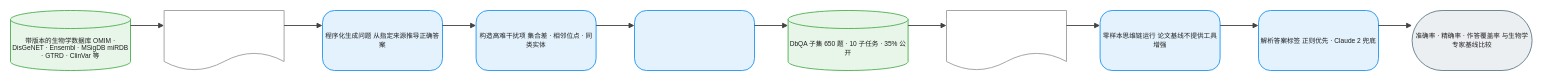
Some shapes in this 1543 by 82 pixel diagram are drawn without their labels. The box of each missing label's shape, as (x1, y1, x2, y2) in pixels:
定义 10 类检索子任务 关联 · 位置 · 靶点 · 变异 特征集 · 响应 · 病毒相互作用: (163, 10, 284, 71)
明确数据溯源 标注数据库版本和证据等级: (634, 10, 755, 71)
组装多选提示 打乱选项 + “信息不足”选项: (946, 10, 1067, 71)
